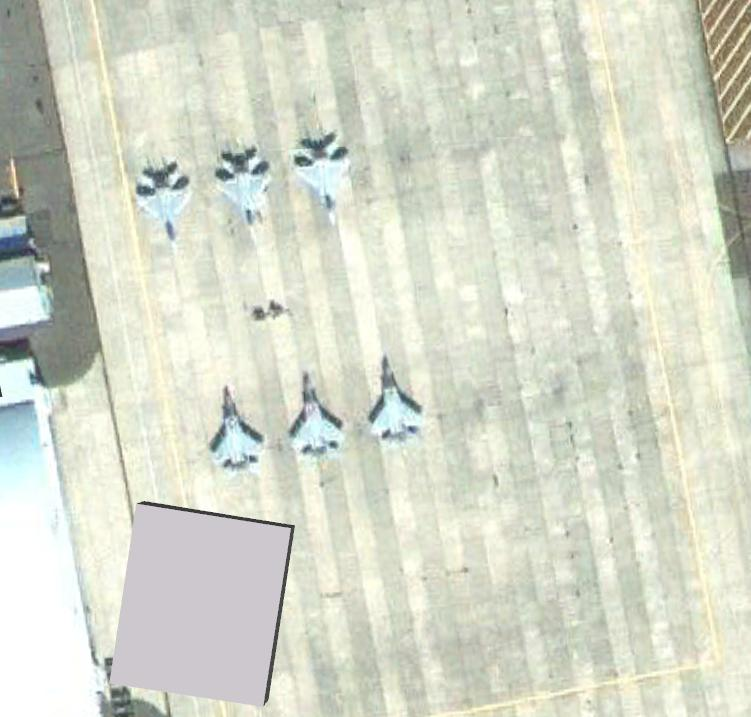A13: (129, 153, 196, 249), (209, 139, 276, 235), (289, 127, 356, 223), (203, 382, 270, 478), (280, 368, 347, 464), (357, 353, 424, 449)
